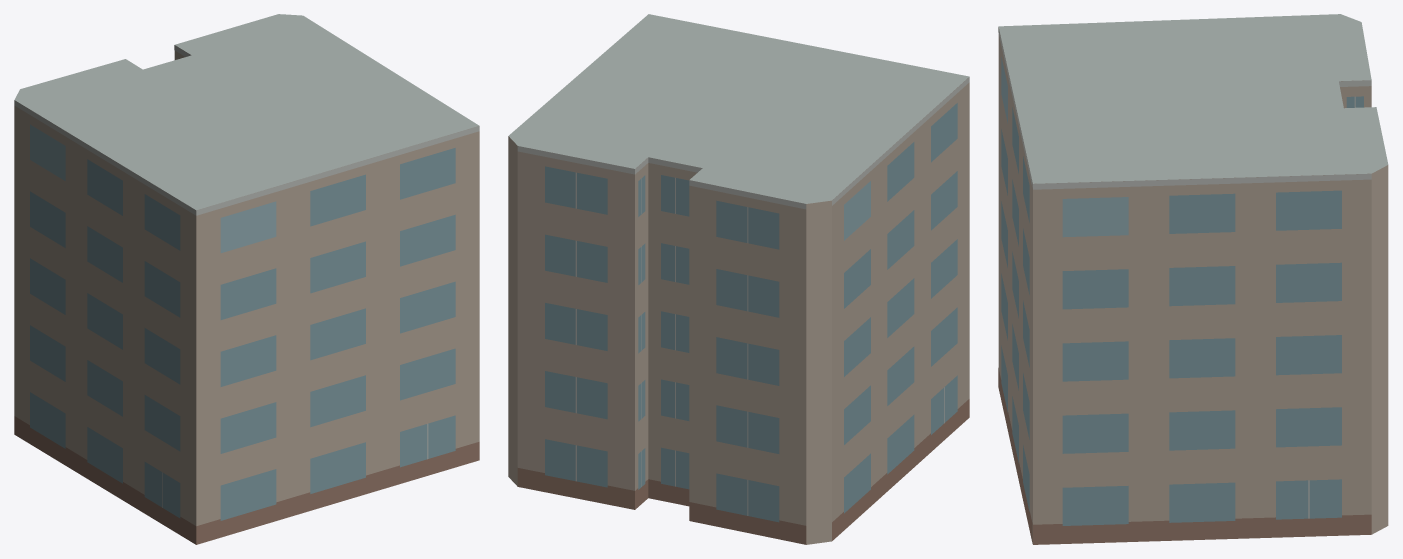
File: survey-upis-33023712.glb
The picture shows the model from 3 angles, left to right: view 1: azimuth 30°, elevation 25°; view 2: azimuth 150°, elevation 25°; view 3: azimuth 270°, elevation 25°; orthographic projection. The views are drawn at different scales.
Parts seen in each view (by area): view 1: survey-upis-33023712.tmp; view 2: survey-upis-33023712.tmp; view 3: survey-upis-33023712.tmp.
Boxes of the visible parts, box(x1,y1,x2,y2) form: survey-upis-33023712.tmp: box(14, 14, 479, 544); survey-upis-33023712.tmp: box(508, 14, 969, 544); survey-upis-33023712.tmp: box(998, 14, 1388, 544).
Size of the model in its own units: 15.04 by 14.9 by 14.59.
